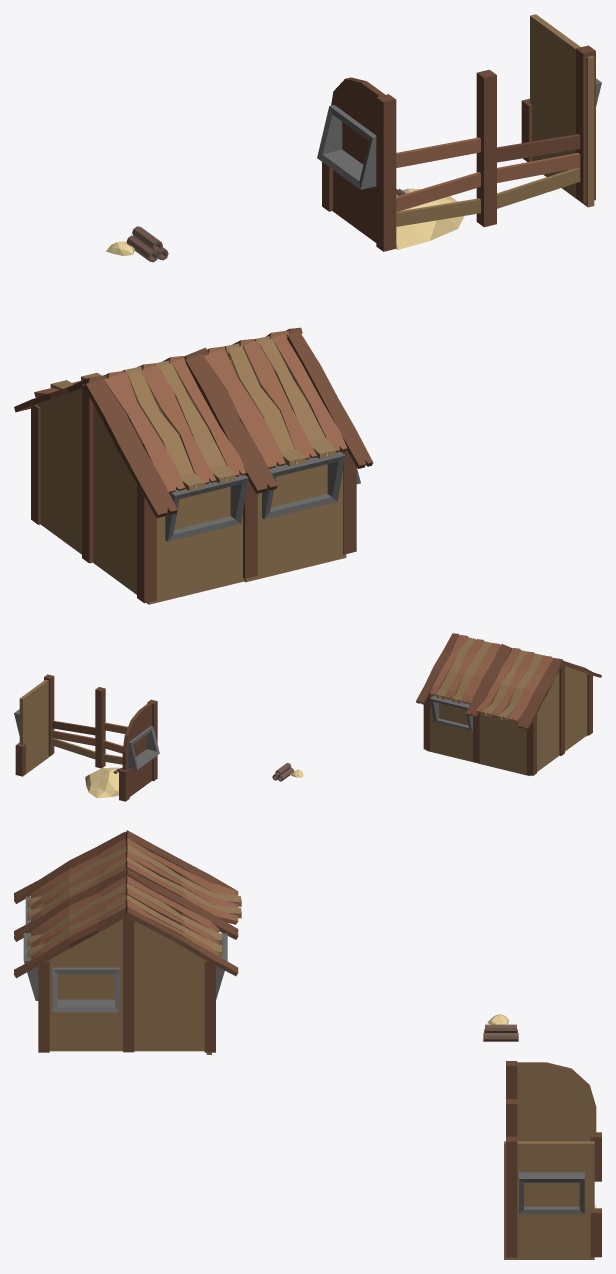
Rendered from Crafter_Gatherer_Elements.fbx.
3 views of the same model, one above another, from view 1: azimuth 30°, elevation 25°; view 2: azimuth 150°, elevation 25°; view 3: azimuth 270°, elevation 25° (orthographic). The views are drawn at different scales.
Visible parts, largest first — view 1: Cube.021, Cube.022, Sturdy_Material; view 2: Cube.021, Cube.022, Sturdy_Material; view 3: Cube.021, Cube.022, Sturdy_Material.
Boxes of the visible parts, x1,y1,x2,y2 form: Cube.021: (14, 327, 373, 604); Cube.022: (317, 14, 601, 251); Sturdy_Material: (126, 226, 168, 262); Cube.021: (416, 633, 601, 775); Cube.022: (14, 674, 159, 801); Sturdy_Material: (272, 763, 293, 781); Cube.021: (14, 830, 241, 1054); Cube.022: (504, 1061, 601, 1259); Sturdy_Material: (483, 1024, 518, 1041).
Size of the model in its own units: 1080 by 263 by 917.
